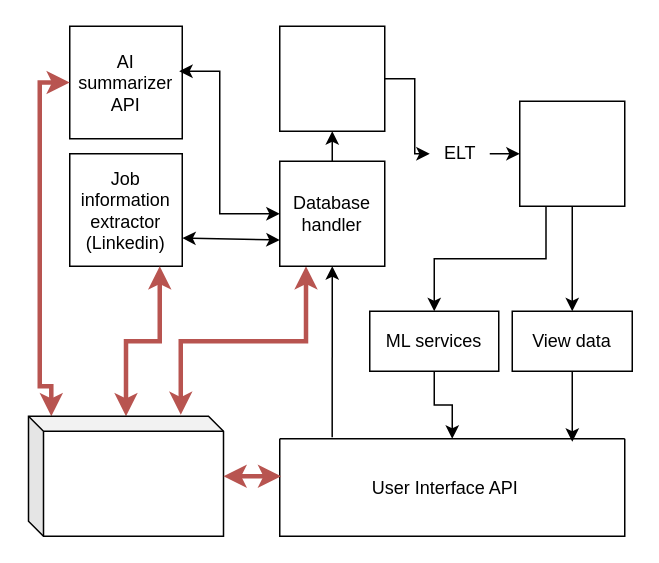
The diagram is 659 pixels wide and 563 high, and some of its shapes have lost their labels. The box of each missing label's shape, as (x1, y1, x2, y2) in pixels:
KAFKA ZOOKEEPER: (27, 415, 224, 536)
Source database: (278, 25, 385, 131)
Target database: (518, 100, 625, 206)
